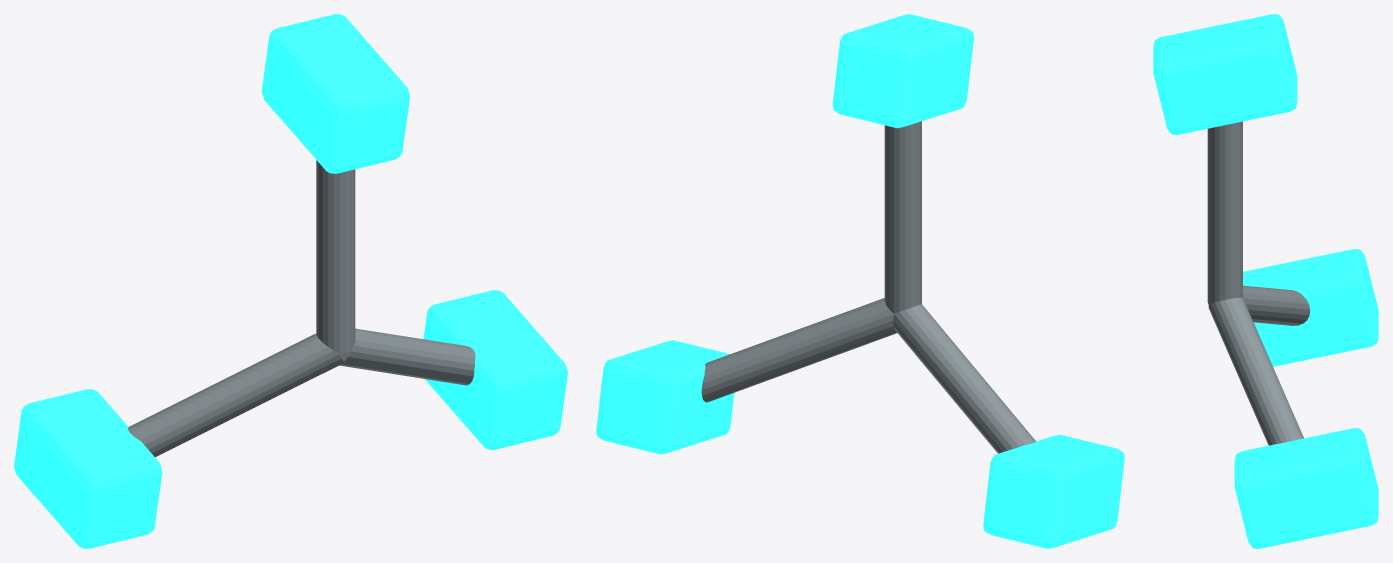
Rendered from SM_TradeBeacon_Motion.001.fbx.
The picture shows the model from 3 angles, left to right: view 1: azimuth 30°, elevation 25°; view 2: azimuth 150°, elevation 25°; view 3: azimuth 270°, elevation 25°; orthographic projection. The views are drawn at different scales.
Visible parts, largest first — view 1: SM_TradeBeacon_Motion.001; view 2: SM_TradeBeacon_Motion.001; view 3: SM_TradeBeacon_Motion.001.
Boxes of the visible parts, x1=… form: SM_TradeBeacon_Motion.001: x1=14, y1=14, x2=567, y2=548; SM_TradeBeacon_Motion.001: x1=596, y1=14, x2=1124, y2=548; SM_TradeBeacon_Motion.001: x1=1153, y1=14, x2=1378, y2=548.
Size of the model in its own units: 227 by 101 by 208.
